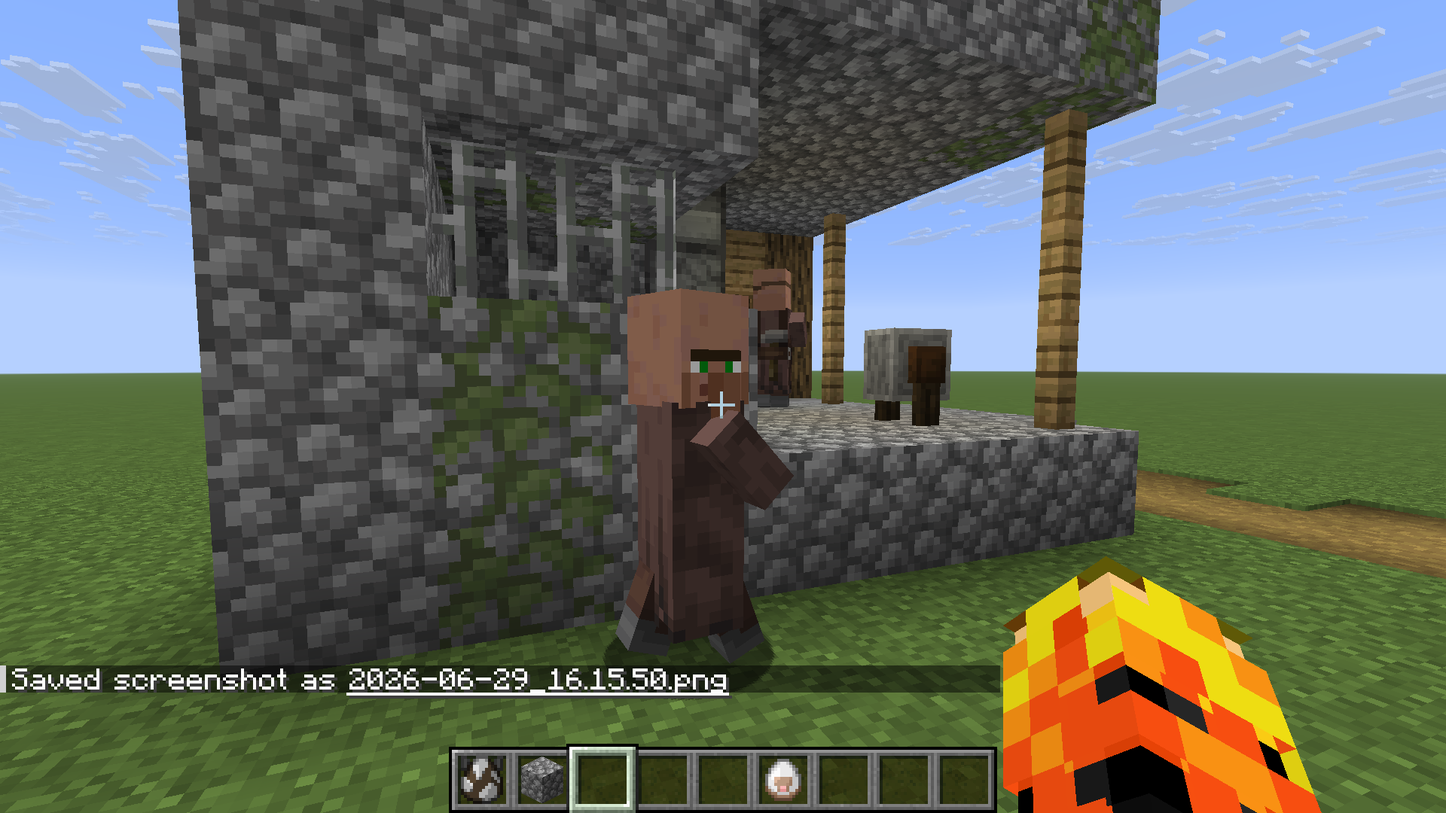cablestone: (187, 73, 419, 286), (203, 291, 419, 472), (212, 490, 421, 659), (595, 3, 756, 162), (819, 455, 954, 568), (976, 437, 1076, 544)
villager: (621, 291, 788, 689), (743, 259, 830, 413)
